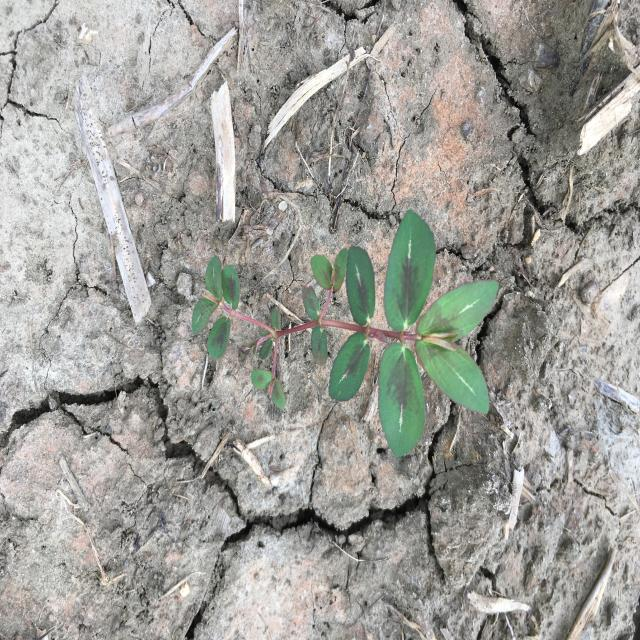SpottedSpurge: (191, 208, 500, 456)
